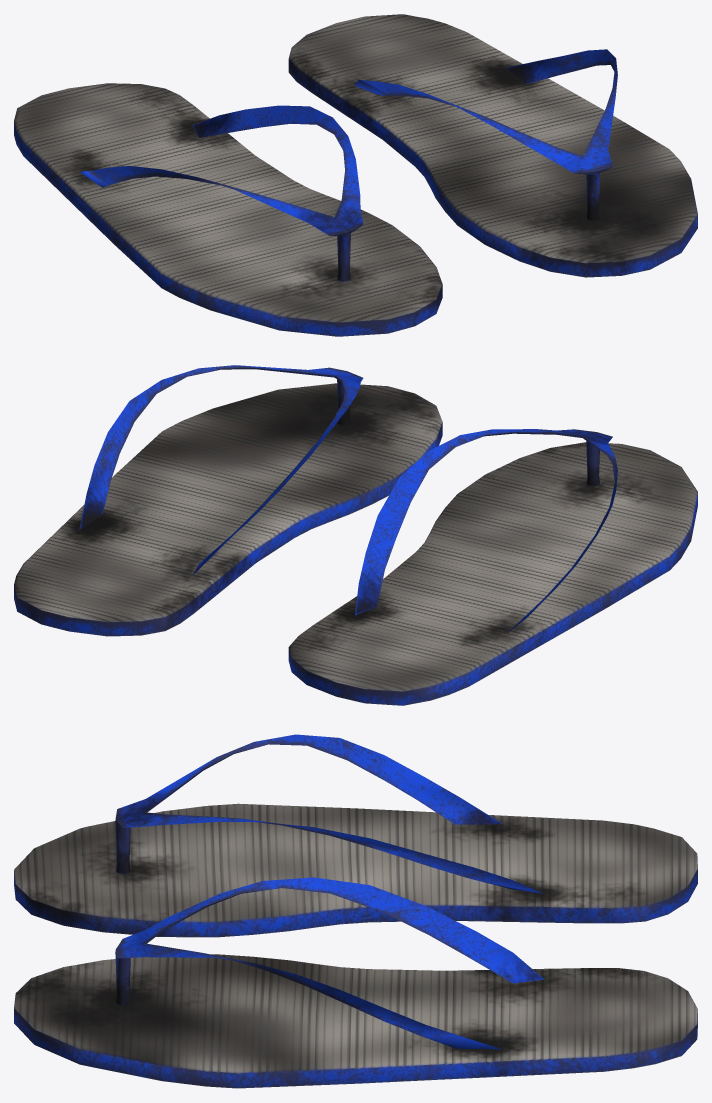
File: Shoes_003_Slippers_Both_Separated.fbx
3 renders of one model, top to bottom at view 1: azimuth 30°, elevation 25°; view 2: azimuth 150°, elevation 25°; view 3: azimuth 270°, elevation 25°, orthographic. The views are drawn at different scales.
Parts seen in each view (by area): view 1: Slipper_Left, Slipper_Right; view 2: Slipper_Left, Slipper_Right; view 3: Slipper_Right, Slipper_Left.
Boxes of the visible parts, x1,y1,x2,y2 form: Slipper_Left: [14, 83, 442, 336]; Slipper_Right: [288, 14, 697, 277]; Slipper_Left: [288, 429, 697, 705]; Slipper_Right: [14, 365, 442, 636]; Slipper_Right: [14, 877, 697, 1088]; Slipper_Left: [14, 734, 697, 937].
Size of the model in its own units: 27.65 by 4.95 by 29.8.
1 material, 1 textured.
